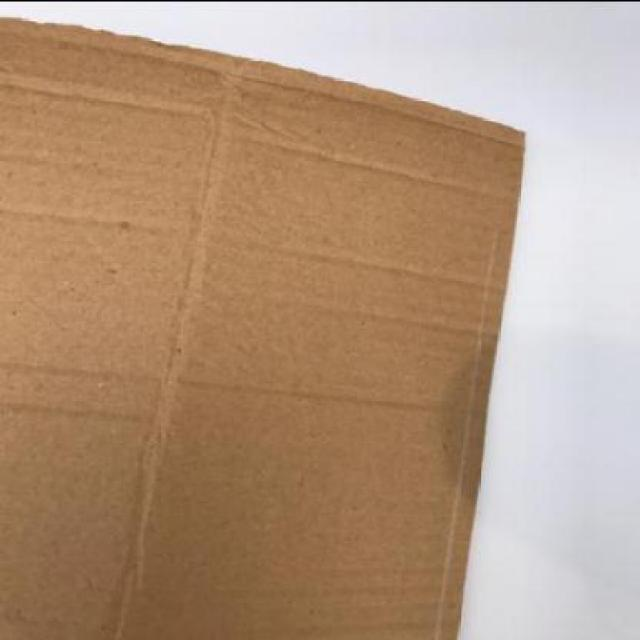box: (0, 14, 525, 638)
